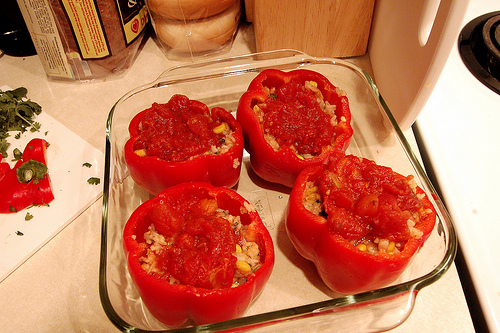capsicum: (119, 178, 272, 327), (284, 156, 436, 294), (236, 67, 355, 191), (125, 94, 245, 198)
